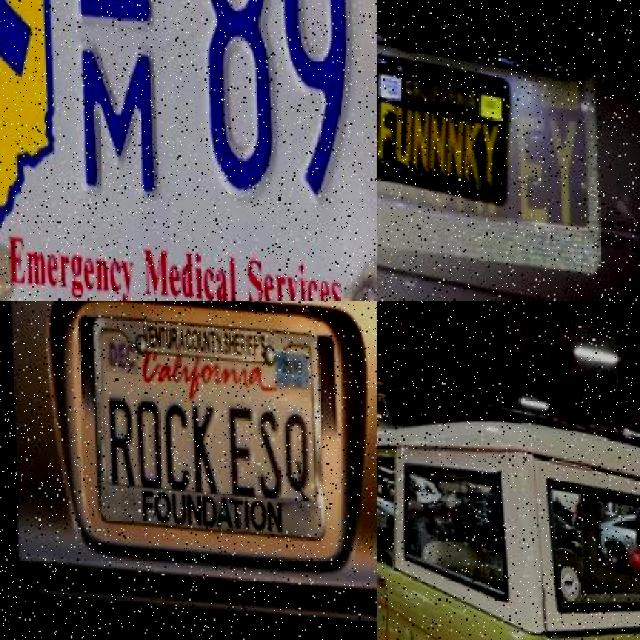licenseplate: (65, 0, 377, 251), (93, 311, 318, 534), (377, 52, 505, 192)
